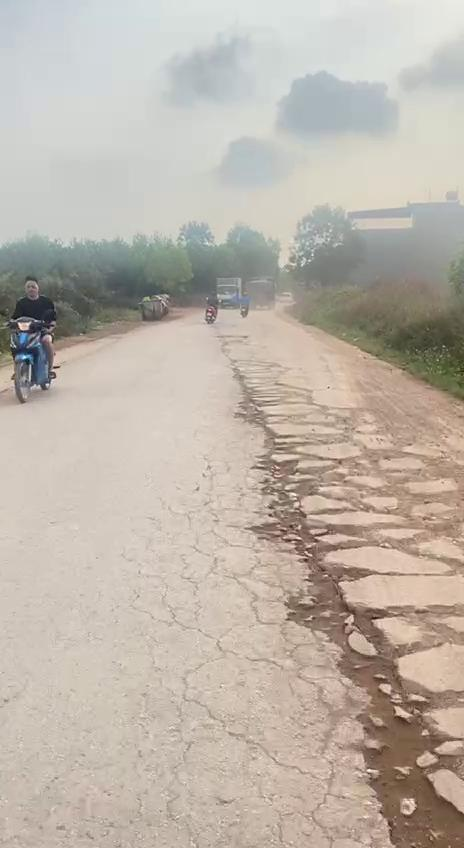pothole: (285, 584, 464, 848), (242, 451, 379, 615), (237, 392, 352, 468)
